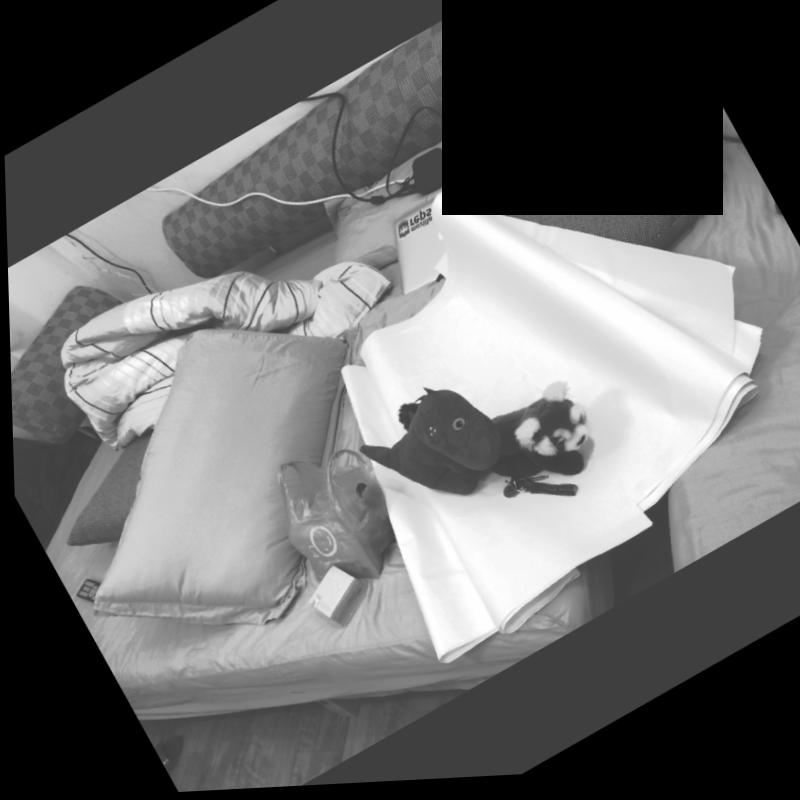pillow: (6, 254, 457, 703), (27, 417, 189, 567), (319, 259, 483, 387)
